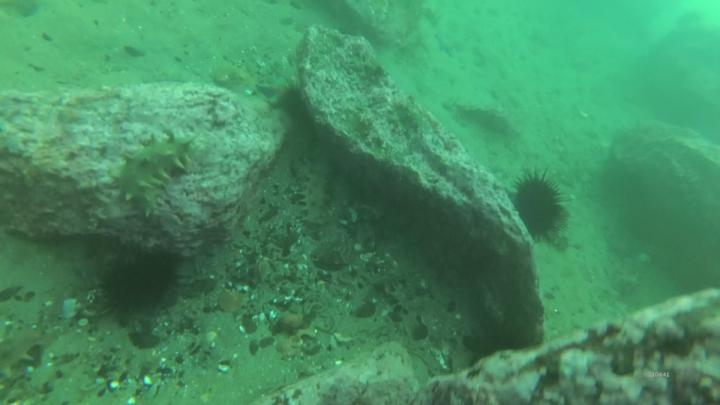echinus: (106, 249, 176, 314), (518, 177, 560, 238)
holothurian: (117, 134, 195, 220), (301, 151, 339, 224)
starfish: (259, 75, 293, 108)
